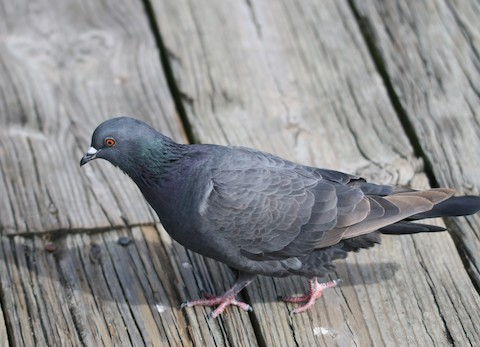pigeon: (77, 105, 470, 325)
